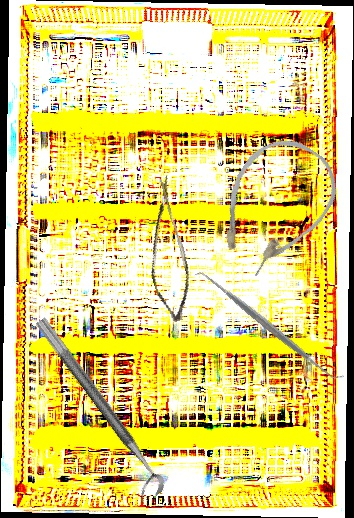Cannula: (197, 123, 351, 290)
Fixation Ring: (20, 316, 170, 505)
Micro Scissor: (124, 175, 209, 325)
Spatula Surgical: (192, 261, 346, 391)
